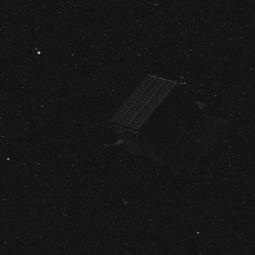proba_2: (102, 64, 227, 176)
